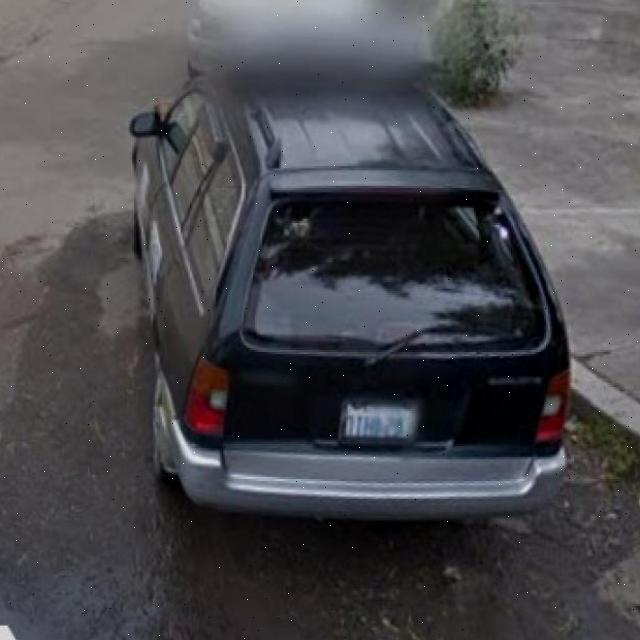car: (130, 33, 566, 520)
